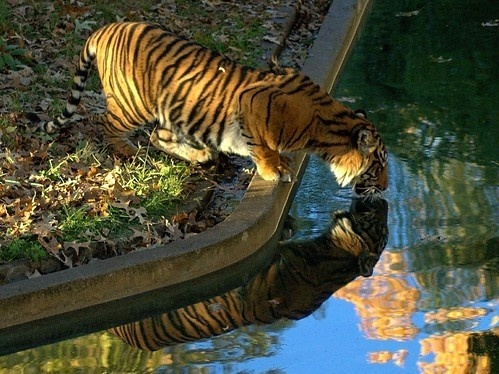tigre: (65, 17, 390, 195)
